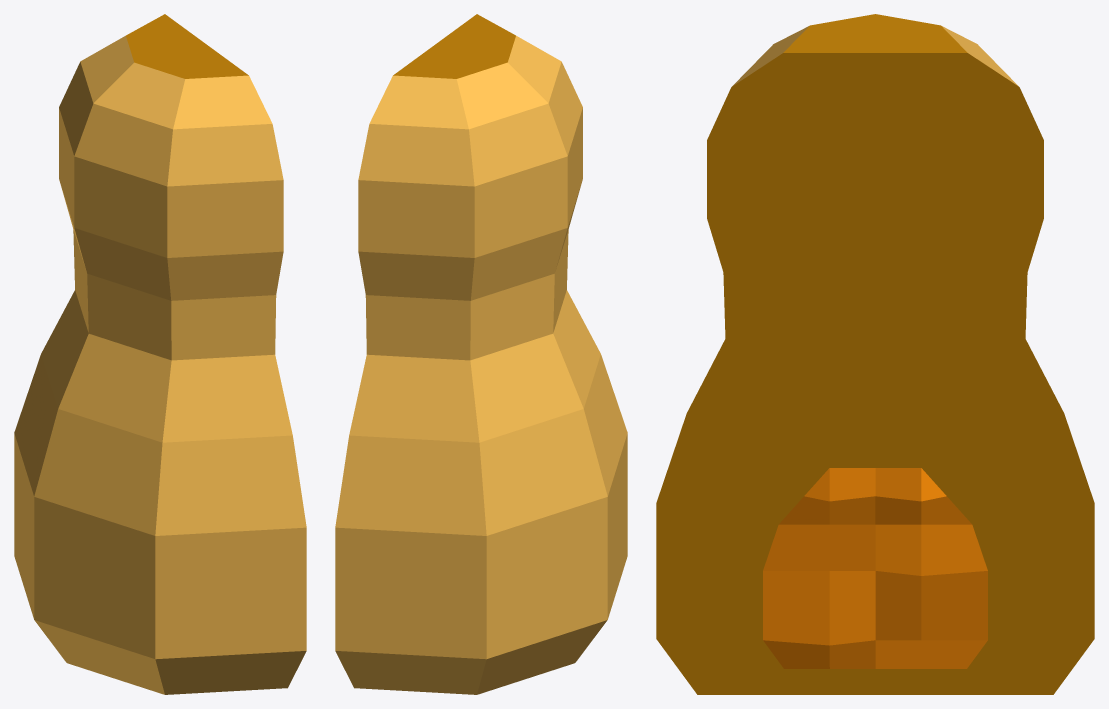
The model's file is buttersquash02.gltf.
3 renders of one model, left to right at view 1: azimuth 30°, elevation 25°; view 2: azimuth 150°, elevation 25°; view 3: azimuth 270°, elevation 25°, orthographic. The views are drawn at different scales.
Visible parts, largest first — view 1: Cylinder.001; view 2: Cylinder.001; view 3: Cylinder.001.
Boxes of the visible parts, left/top/right/bottom form: Cylinder.001: left=14, top=14, right=306, bottom=694; Cylinder.001: left=335, top=14, right=627, bottom=694; Cylinder.001: left=656, top=14, right=1094, bottom=694.
Size of the model in its own units: 0.0547 by 0.1672 by 0.1035.
1 material, 1 textured.
